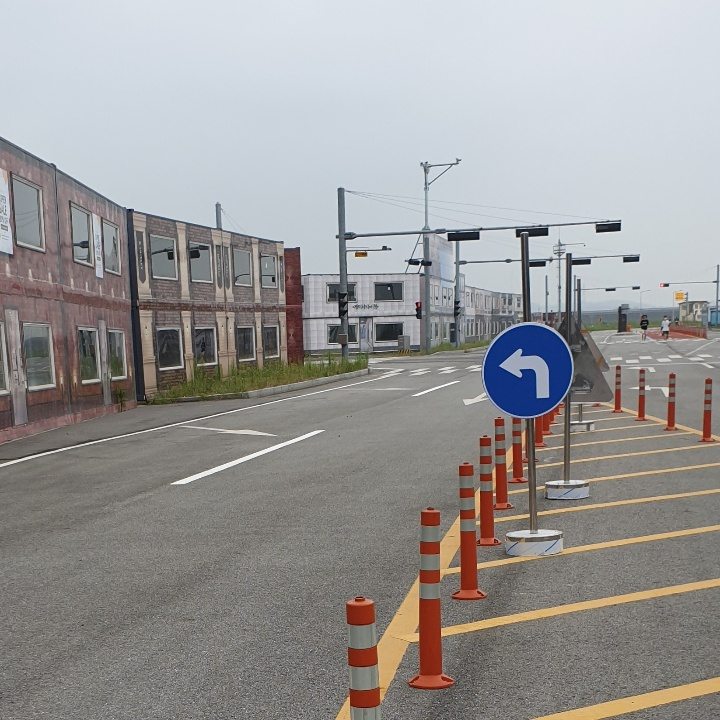left: (496, 345, 560, 407)
